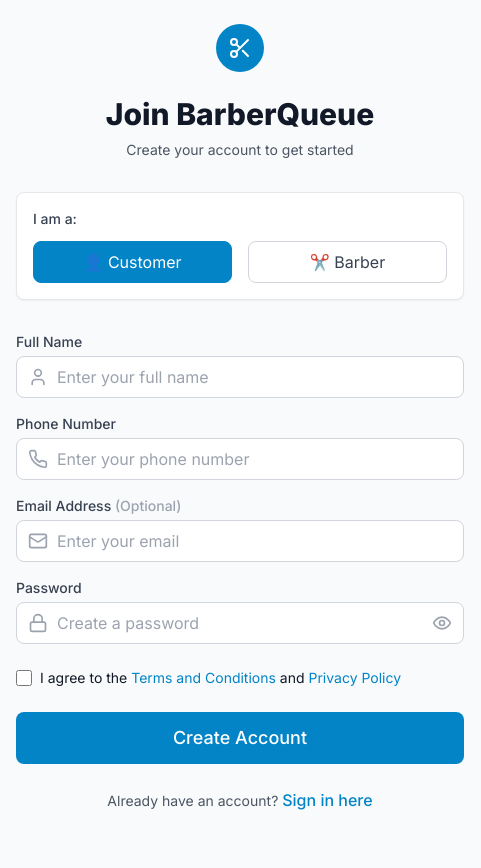
it: RegisterPage › shows barber-specific fields when barber is selected
Click the button "✂️ Barber" at (348, 262), box [248,241,447,283]
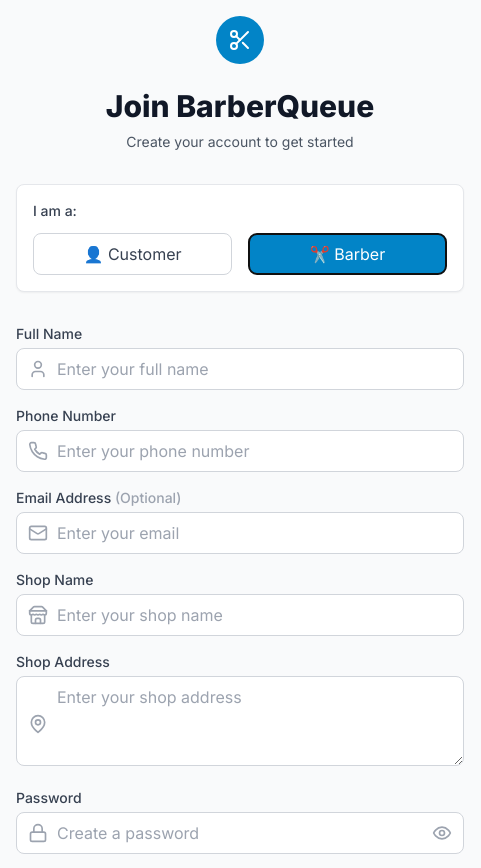
Check: the field labelled "Shop Name" is shown, box [16,594,464,636]
Check: the text box labelled "Shop Address" is shown, box [16,676,464,766]
